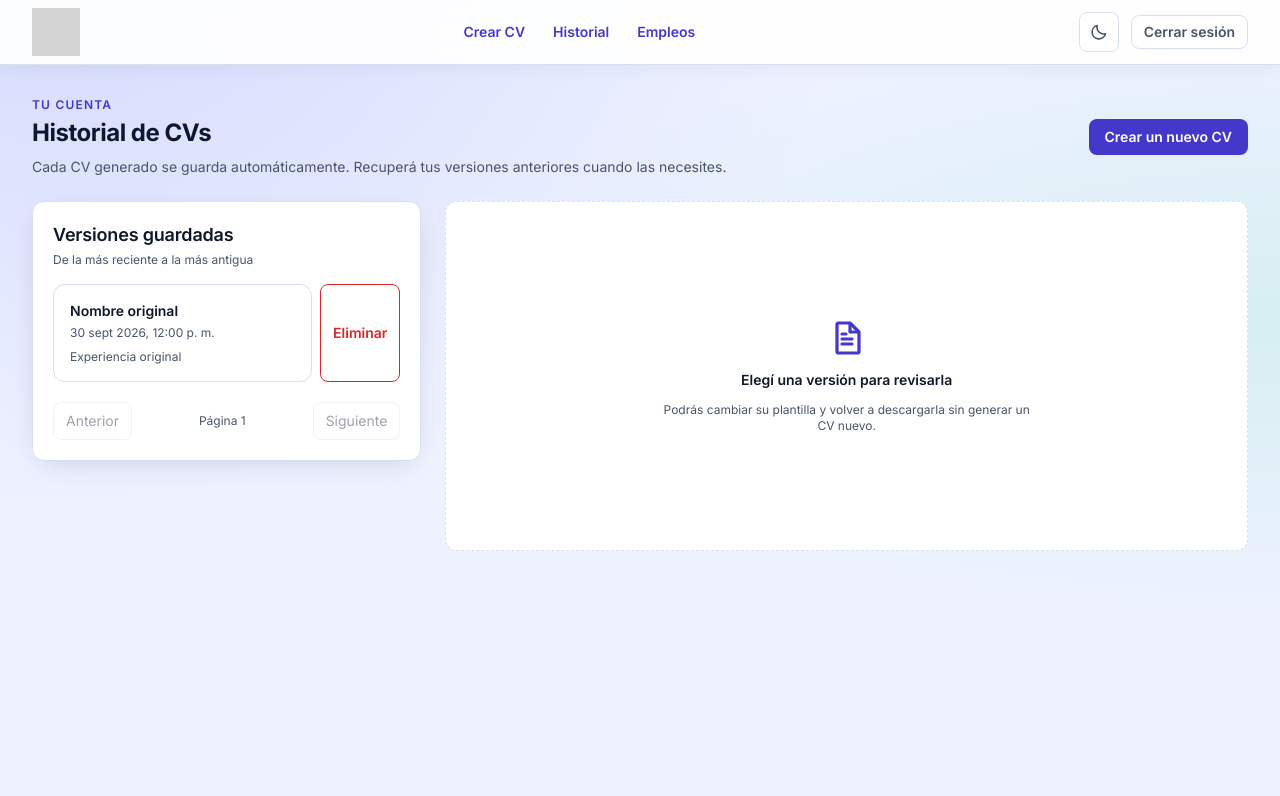
Historial de CVs › "Editar CV" lleva al editor con esa versión
Click the button with test id "history-item-resume-a".
click(183, 333)  # box [53,284,312,382]
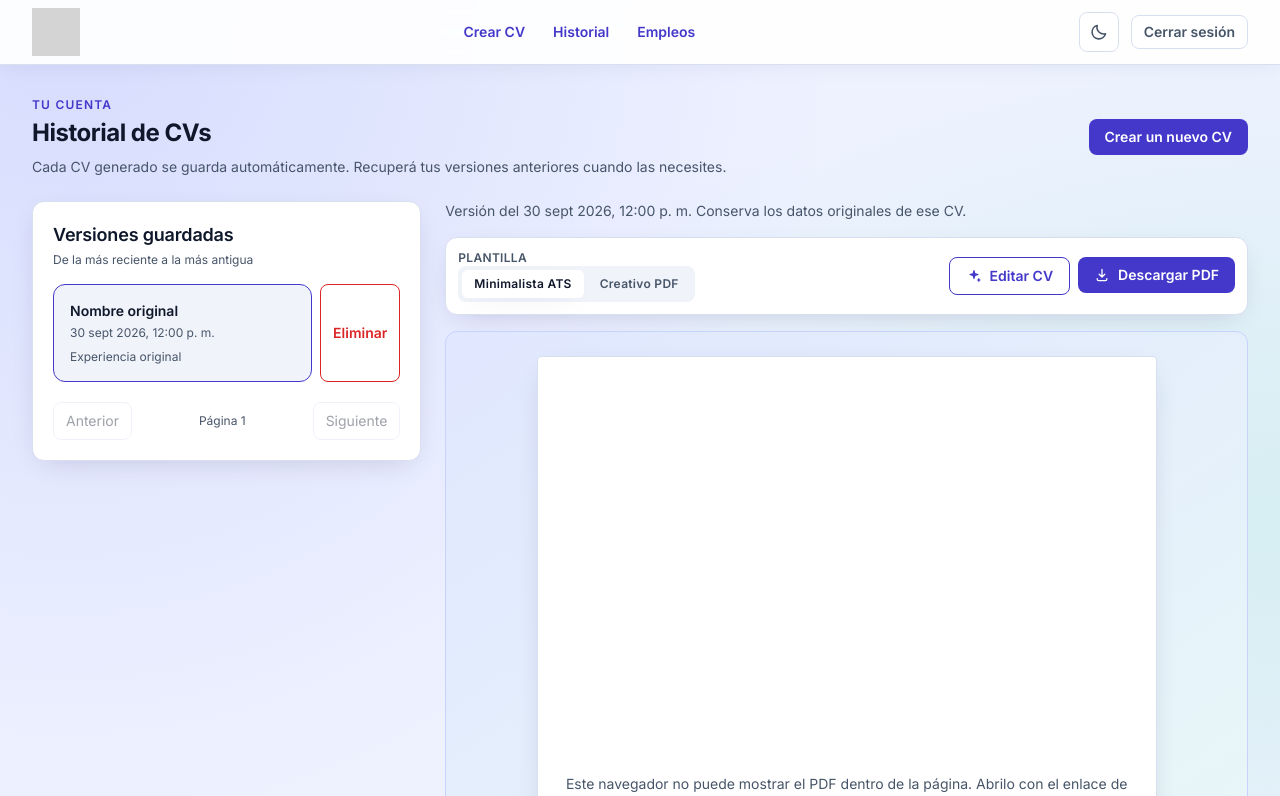
Check: the link with test id "history-edit" reads "Editar CV", box [949,257,1070,295]
